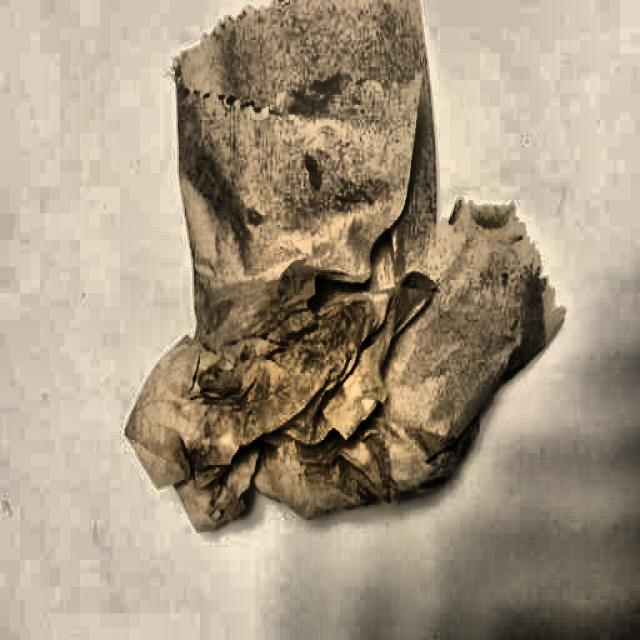trash: (196, 58, 502, 527)
